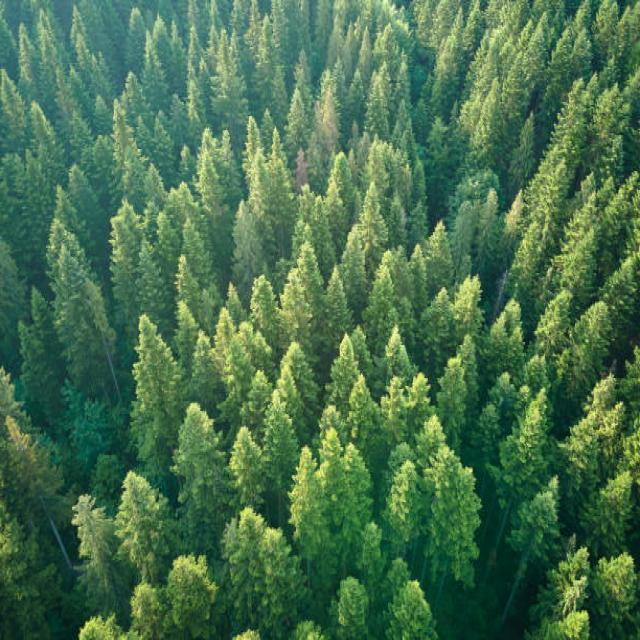tree: (221, 506, 299, 640), (124, 318, 176, 464), (171, 400, 225, 540), (428, 452, 484, 582), (321, 434, 373, 574), (59, 250, 107, 384), (538, 532, 596, 640), (20, 284, 64, 424), (113, 467, 167, 577), (496, 398, 552, 502), (292, 442, 328, 586), (160, 552, 216, 640), (511, 484, 562, 574), (592, 548, 640, 640), (586, 472, 634, 556), (564, 402, 608, 493), (560, 214, 604, 298), (384, 576, 440, 640), (388, 450, 424, 540), (604, 171, 640, 261), (227, 426, 265, 510), (604, 252, 640, 336), (70, 162, 106, 245), (263, 396, 297, 478), (334, 572, 374, 640), (484, 299, 520, 373), (475, 186, 505, 270), (215, 32, 243, 120), (418, 288, 452, 360), (576, 302, 610, 374), (328, 334, 360, 410), (435, 358, 465, 438), (229, 198, 259, 278), (89, 450, 128, 510), (135, 240, 165, 318), (377, 376, 411, 444), (314, 68, 342, 148), (328, 152, 356, 232), (505, 232, 537, 300), (278, 268, 310, 336), (533, 293, 569, 353), (139, 36, 169, 108), (510, 113, 538, 189), (240, 117, 264, 203), (452, 274, 484, 338), (424, 216, 452, 288), (366, 262, 396, 328), (348, 376, 376, 446), (190, 329, 218, 399), (324, 266, 352, 336), (339, 228, 365, 300), (15, 31, 40, 103), (429, 44, 455, 112), (250, 272, 278, 334), (448, 202, 476, 264), (121, 6, 147, 72), (246, 366, 274, 426), (174, 302, 198, 370), (366, 68, 389, 132), (380, 325, 408, 377), (285, 86, 309, 146), (416, 412, 446, 460), (474, 402, 498, 458), (65, 110, 93, 158), (408, 242, 428, 306), (522, 351, 552, 393), (176, 253, 197, 311), (550, 33, 572, 83), (140, 164, 164, 208), (359, 180, 381, 227), (426, 119, 446, 170), (213, 303, 235, 349), (408, 198, 428, 246), (224, 277, 243, 325), (409, 159, 427, 209), (572, 32, 592, 76), (90, 96, 110, 136)
